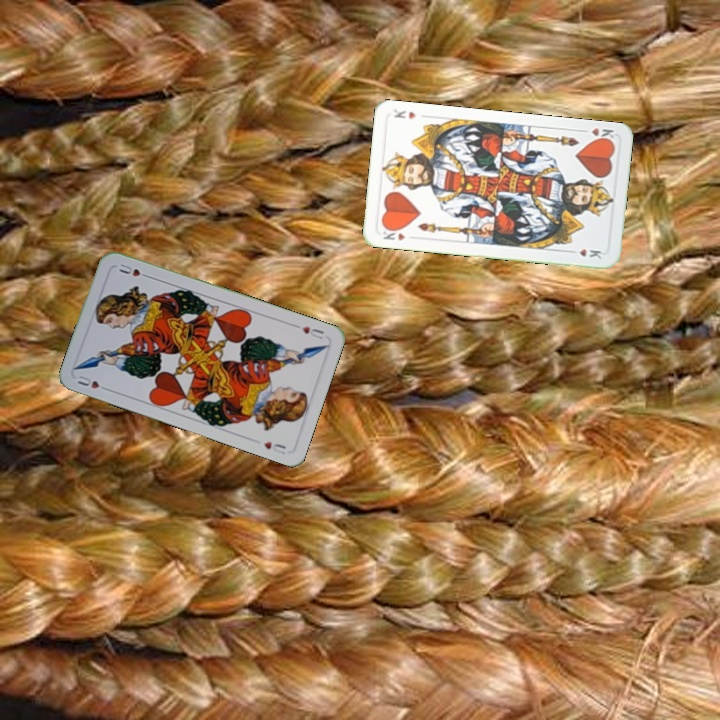HK: (577, 124, 617, 144), (379, 224, 408, 243)
HU: (73, 372, 112, 393), (290, 321, 327, 341)
